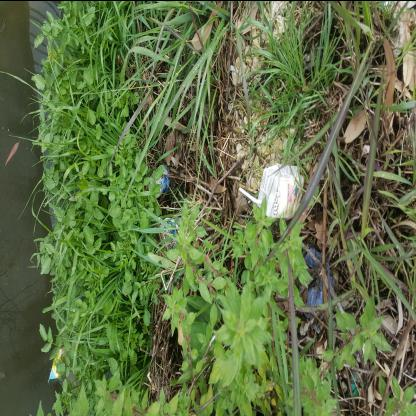karton: (196, 238, 252, 304)
plastik: (219, 148, 253, 171)
